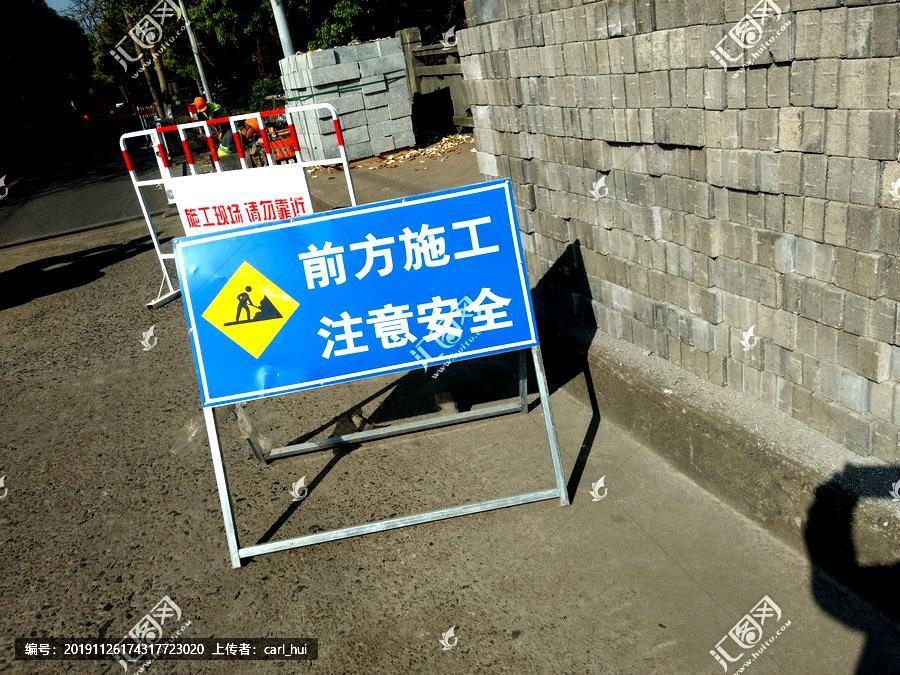sign: (169, 171, 544, 411)
